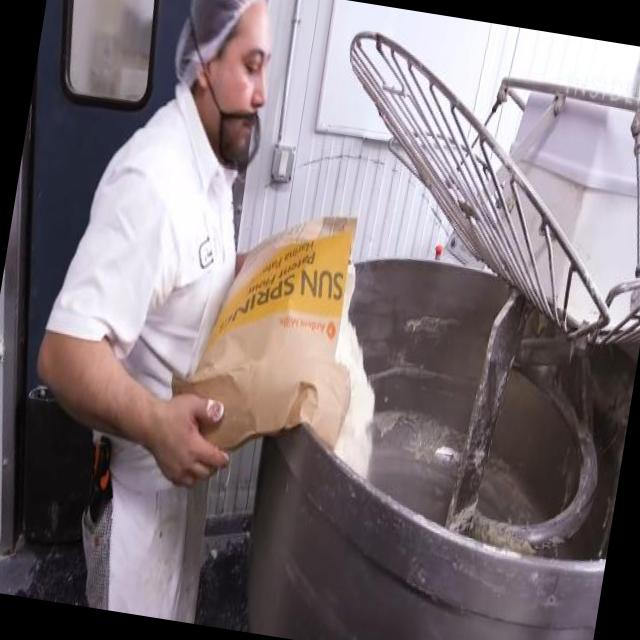hairnet: (178, 0, 269, 55)
